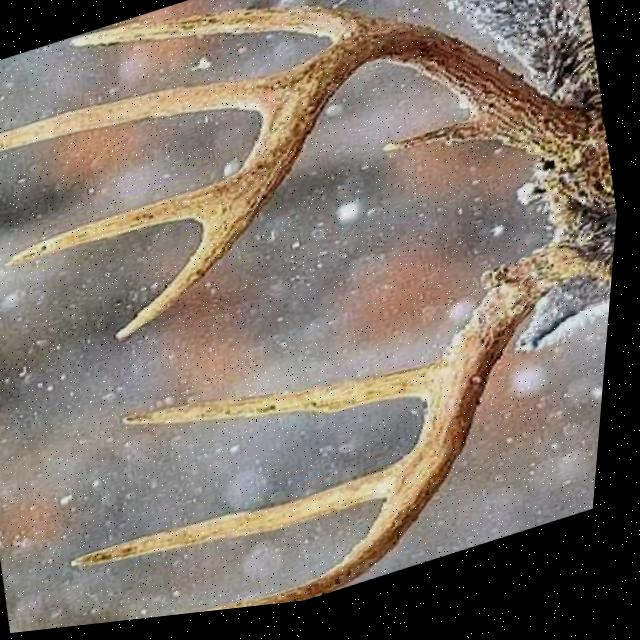L-F: (109, 28, 599, 348)
L-G1: (379, 125, 503, 164)
L-G2: (64, 13, 376, 52)
L-G3: (0, 65, 313, 153)
L-G4: (5, 181, 235, 274)
R-F: (182, 254, 562, 620)
R-G1: (113, 368, 446, 432)
R-G2: (71, 472, 407, 573)
